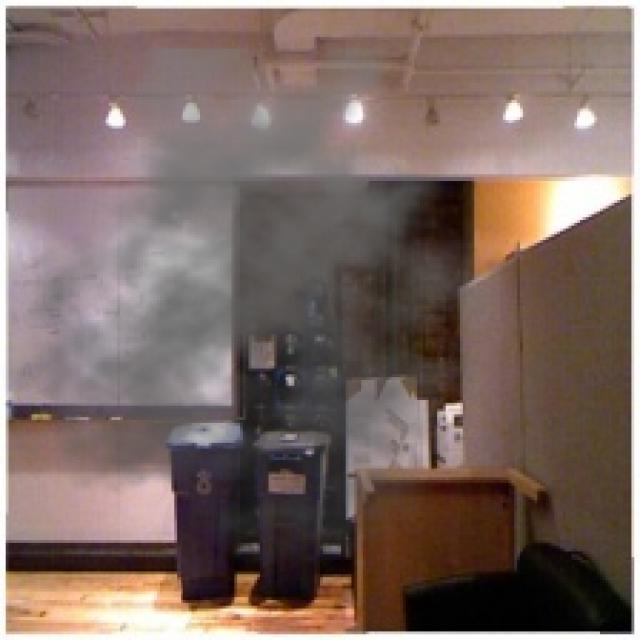Smoke: (2, 49, 532, 568)
